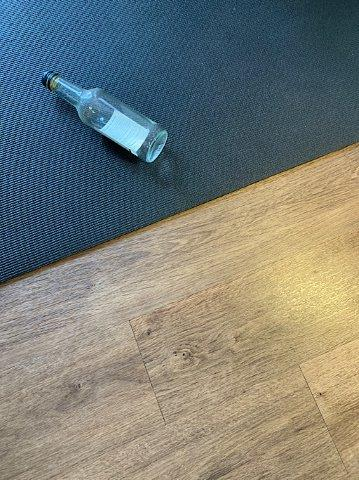botolkaca: (42, 70, 168, 162)
